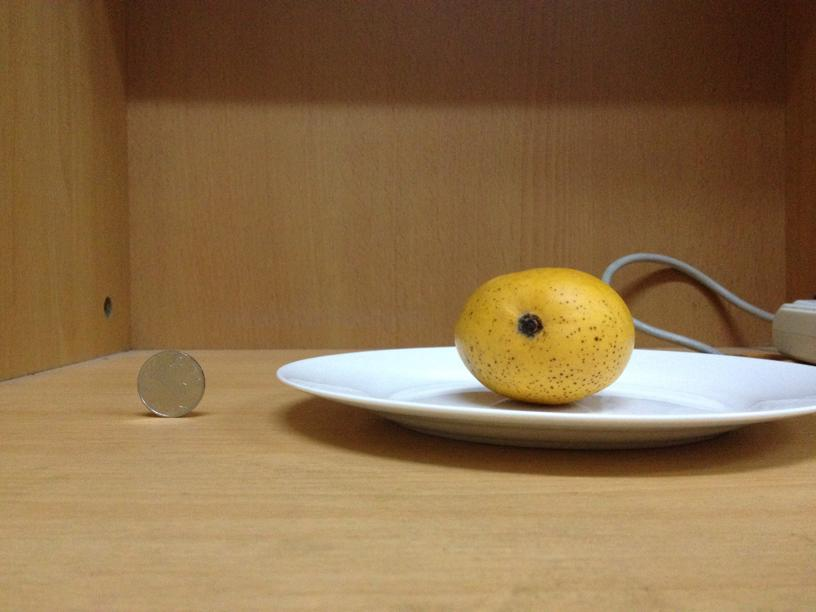coin: (136, 350, 206, 418)
mango: (455, 266, 634, 402)
